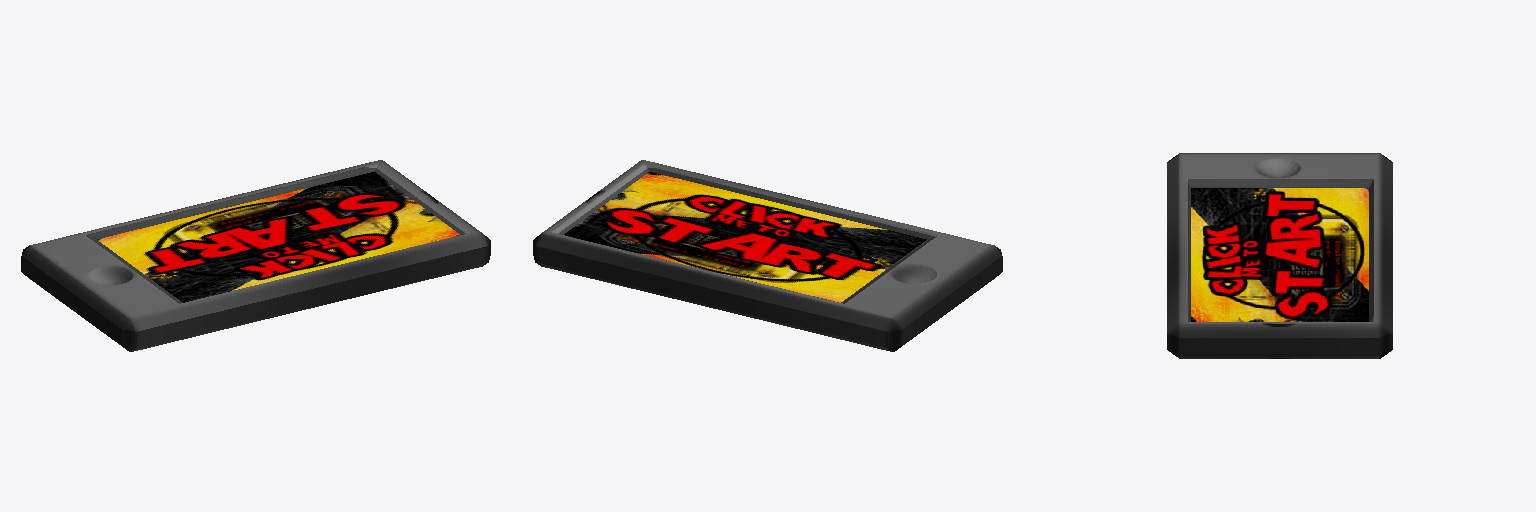
3 renders of one model, left to right at view 1: azimuth 30°, elevation 25°; view 2: azimuth 150°, elevation 25°; view 3: azimuth 270°, elevation 25°, orthographic.
Visible parts, largest first — view 1: polySurface1; view 2: polySurface1; view 3: polySurface1.
Part boxes in pixels (x1,y1,x2,y2): polySurface1: (21, 160, 490, 351); polySurface1: (533, 160, 1002, 351); polySurface1: (1167, 153, 1392, 358).
Size of the model in its own units: 6.93 by 0.5975 by 3.67.
Materials: 1 (1 with a texture image).